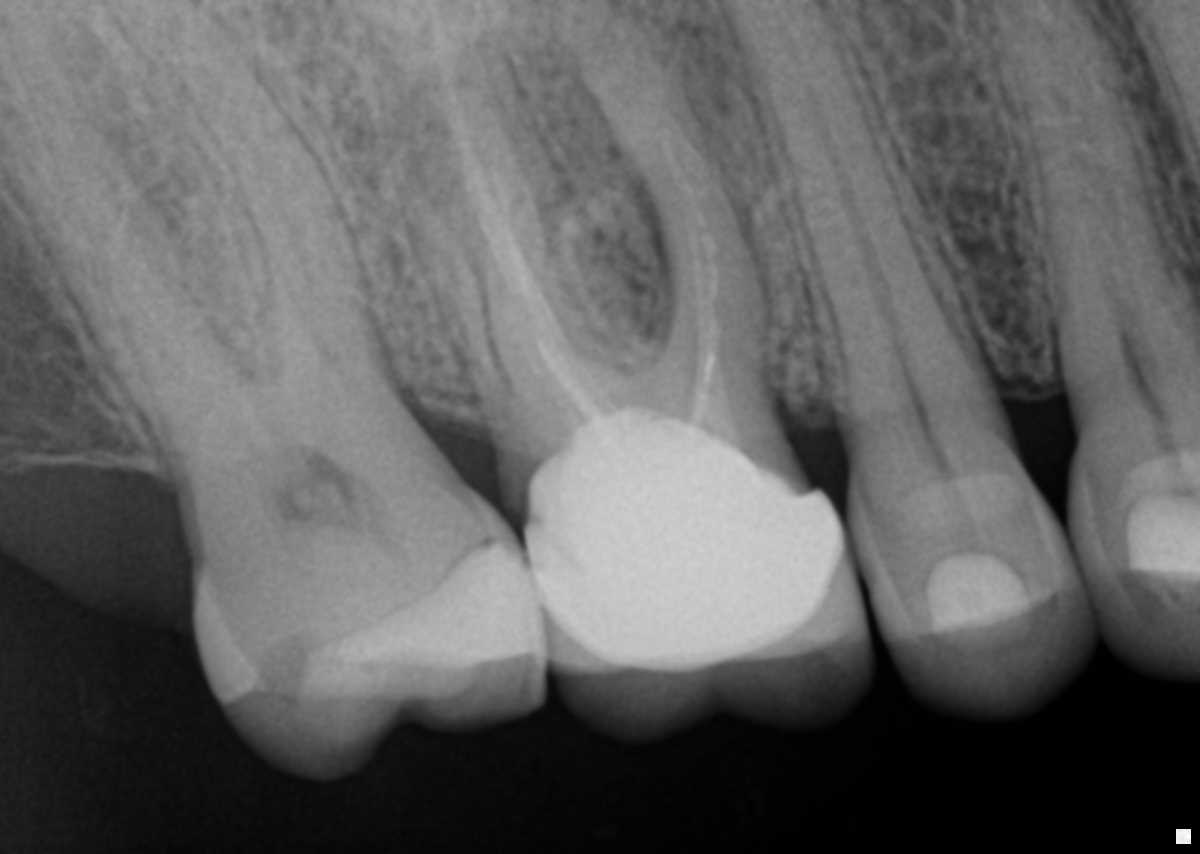Distal Root: (349, 3, 636, 450), (1, 4, 263, 463)
Main Canal: (773, 14, 931, 430), (1059, 89, 1163, 395)
Main Root: (716, 4, 1005, 428), (992, 0, 1200, 391)
Mesial Root: (94, 3, 419, 431), (544, 2, 788, 447)
Root Canal Filling: (430, 10, 617, 435), (661, 130, 719, 433)
